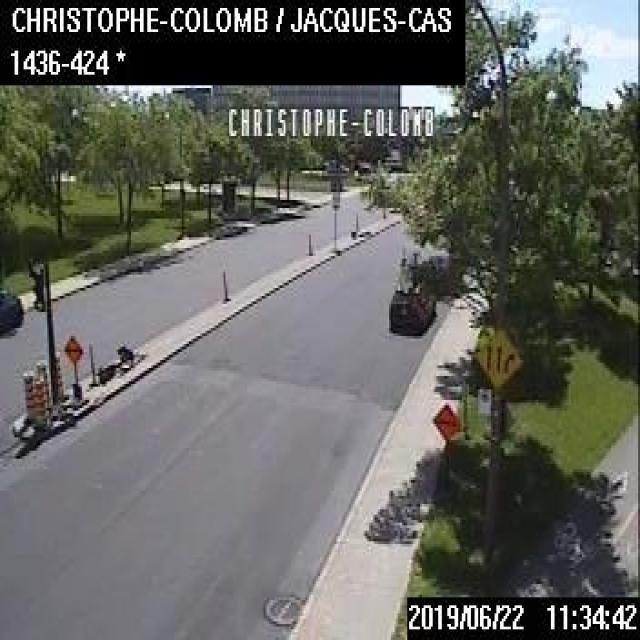construction: (430, 399, 459, 494), (61, 332, 85, 406), (34, 359, 50, 410), (52, 348, 66, 399), (32, 377, 46, 428), (22, 368, 34, 424)
vehicle: (388, 278, 437, 334), (0, 288, 24, 333)
